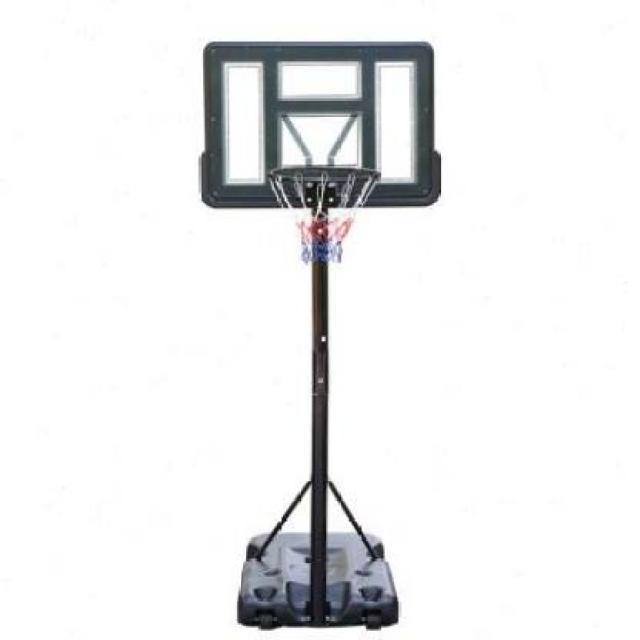rim: (270, 166, 378, 262)
